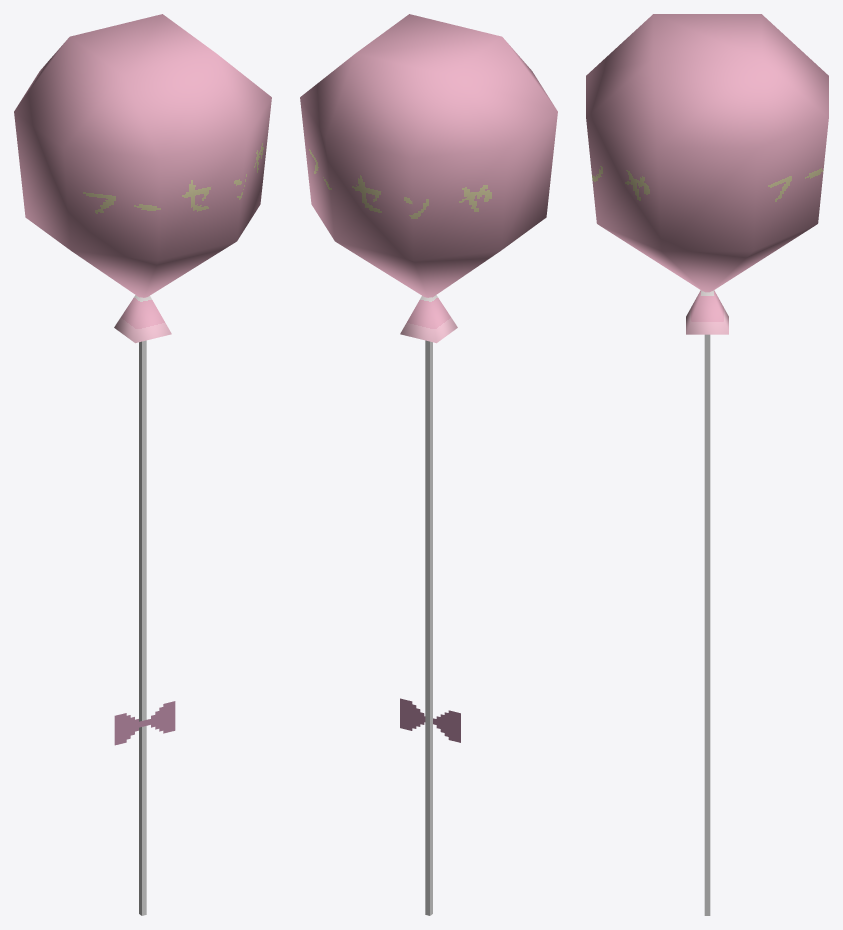
Rendered from 05b0_Pink_Balloon.glb.
3 renders of one model, left to right at view 1: azimuth 30°, elevation 25°; view 2: azimuth 150°, elevation 25°; view 3: azimuth 270°, elevation 25°, orthographic.
Parts seen in each view (by area): view 1: part_0; view 2: part_0; view 3: part_0.
Boxes of the visible parts, x1,y1,x2,y2 form: part_0: (14,14,271,915); part_0: (300,14,557,915); part_0: (586,14,828,915).
Size of the model in its own units: 0.3031 by 1.21 by 0.3031.
1 material, 1 textured.
